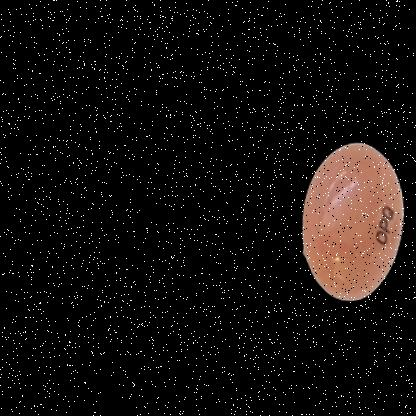opiqutan: (253, 112, 416, 338)
